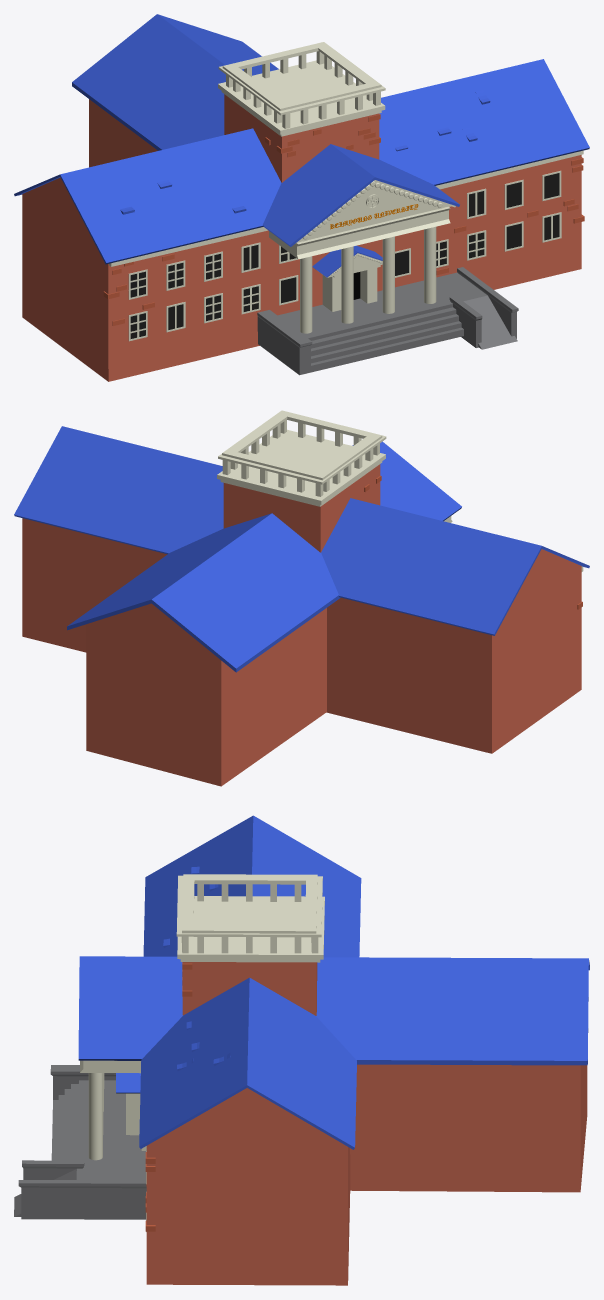
The model's file is KMU Hall.fbx.
The picture shows the model from 3 angles, top to bottom: view 1: azimuth 30°, elevation 25°; view 2: azimuth 150°, elevation 25°; view 3: azimuth 270°, elevation 25°; orthographic projection. The views are drawn at different scales.
Parts seen in each view (by area): view 1: KMU Hall; view 2: KMU Hall; view 3: KMU Hall.
Boxes of the visible parts, <box> form: KMU Hall: <box>14,14,589,381</box>; KMU Hall: <box>14,410,589,786</box>; KMU Hall: <box>14,815,589,1285</box>.
Size of the model in its own units: 502 by 218 by 451.
